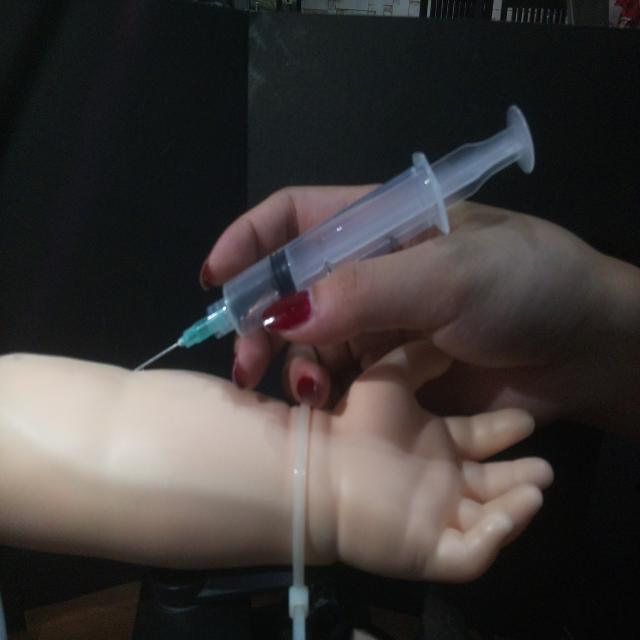28deg: (129, 99, 539, 375)
